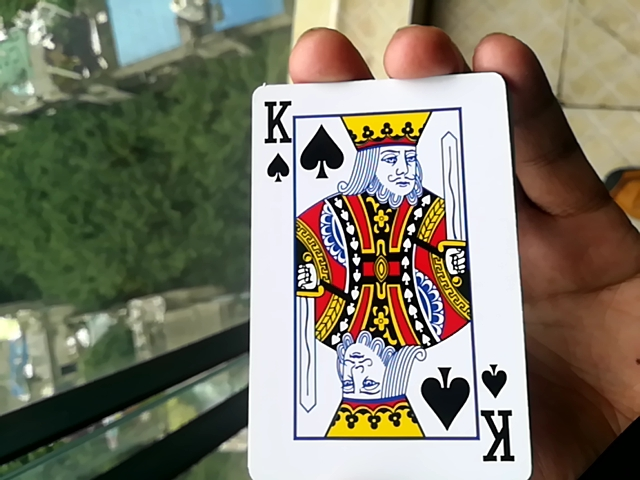ht k: (240, 78, 523, 477)
